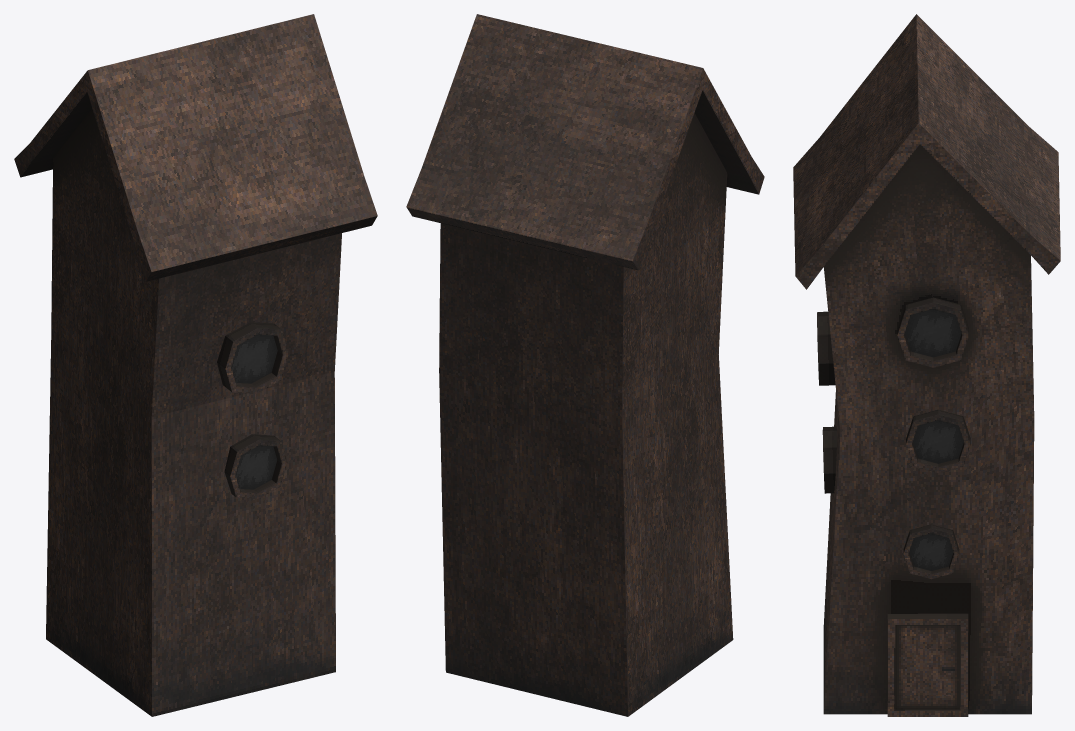
File: house3.glb
3 renders of one model, left to right at view 1: azimuth 30°, elevation 25°; view 2: azimuth 150°, elevation 25°; view 3: azimuth 270°, elevation 25°, orthographic.
Parts seen in each view (by area): view 1: Cube.003; view 2: Cube.003; view 3: Cube.003.
Boxes of the visible parts, x1,y1,x2,y2 form: Cube.003: (14,14,377,716); Cube.003: (406,14,764,716); Cube.003: (793,14,1060,716).
Bounding box in the file's own units: 5.64 × 14.49 × 5.81.
Materials: 1 (1 with a texture image).
